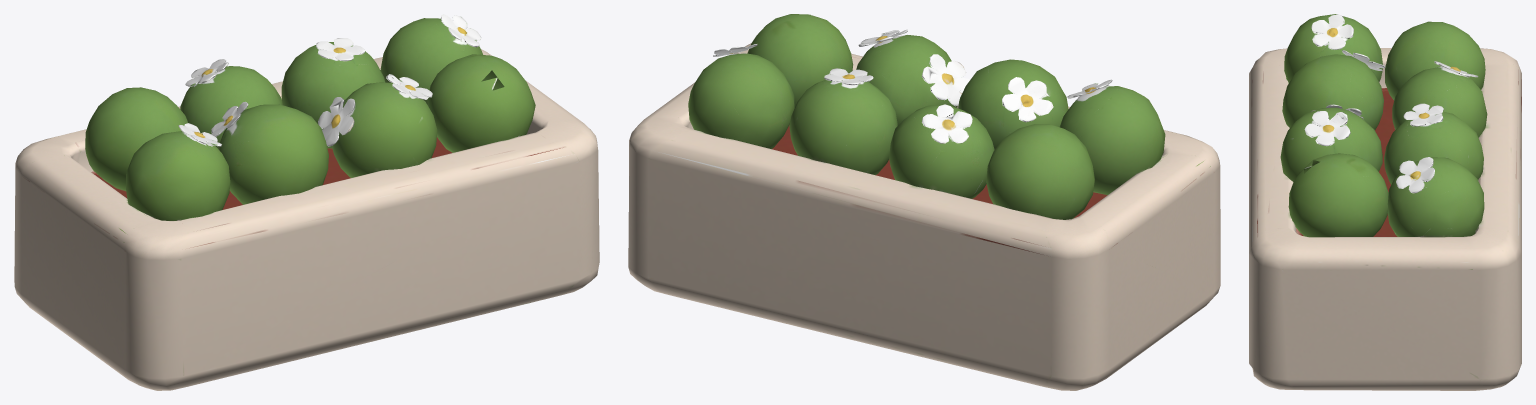
The model's file is planter.raw.glb.
3 renders of one model, left to right at view 1: azimuth 30°, elevation 25°; view 2: azimuth 150°, elevation 25°; view 3: azimuth 270°, elevation 25°, orthographic. The views are drawn at different scales.
Size of the model in its own units: 0.9575 by 0.4458 by 0.52.
1 material, 1 textured.
